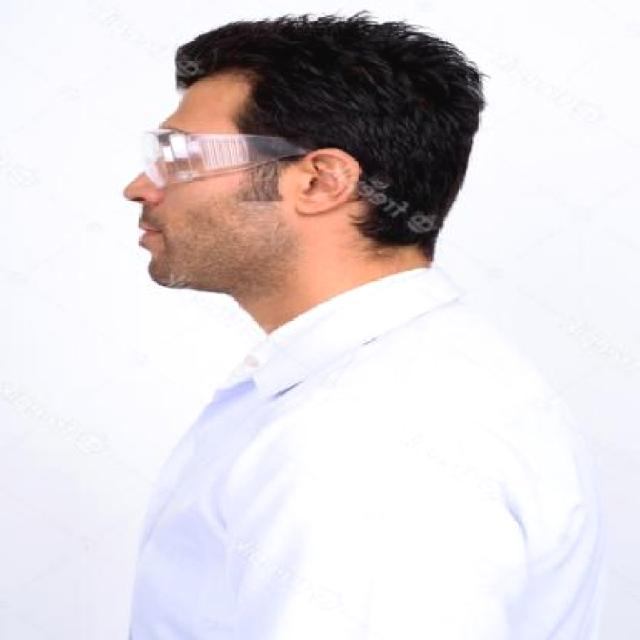face_nomask: (111, 119, 203, 295)
glasses: (142, 126, 308, 188)
head_nohelmet: (150, 6, 444, 119)
person: (102, 24, 573, 640)
